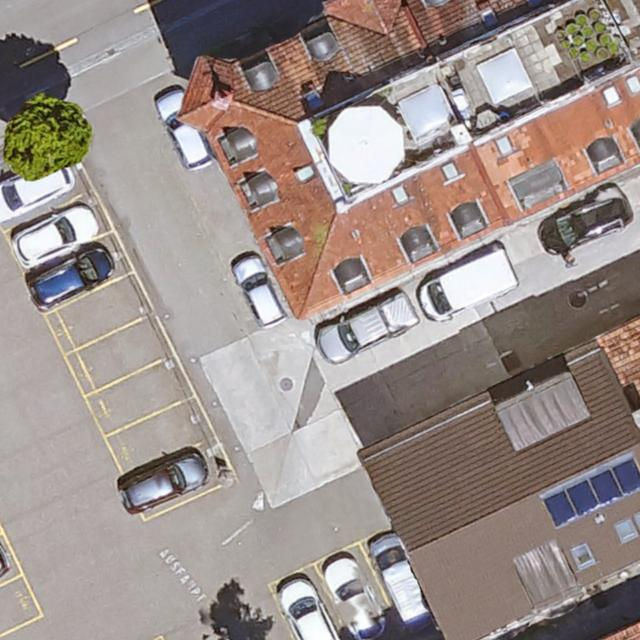tree: (3, 96, 92, 176)
